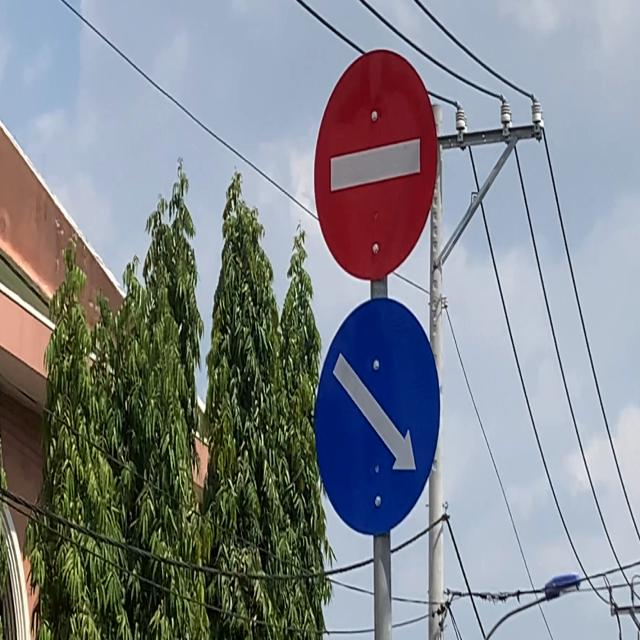Cam nguoc chieu: (310, 42, 442, 289)
Hieu lenh: (310, 292, 446, 548)
